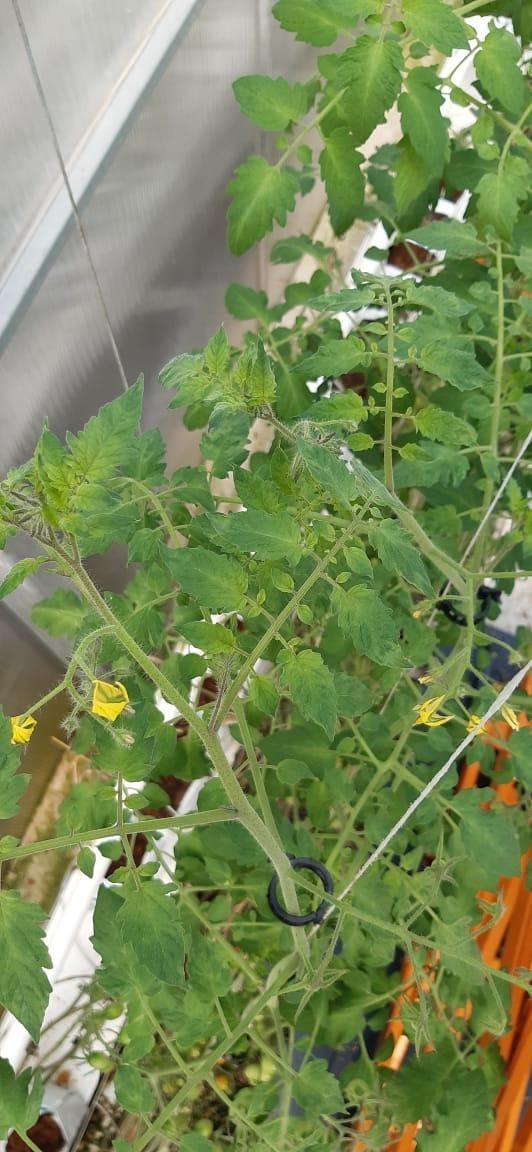Rugose Flower: (92, 679, 128, 721), (416, 696, 452, 727), (11, 715, 36, 745)
Rugose leaf: (68, 380, 142, 482), (200, 509, 301, 565), (332, 584, 400, 665), (167, 547, 247, 612), (279, 650, 338, 738), (368, 519, 430, 592), (412, 335, 486, 392), (300, 439, 358, 503), (235, 334, 275, 415), (413, 404, 476, 448), (297, 340, 364, 377), (236, 470, 290, 514), (197, 326, 230, 391), (408, 285, 473, 318), (308, 282, 373, 312), (309, 392, 365, 426), (172, 467, 213, 510), (129, 528, 167, 573)
Rugose stem: (204, 503, 368, 755), (342, 446, 522, 597), (234, 701, 297, 912), (8, 808, 234, 859), (383, 289, 394, 494)
